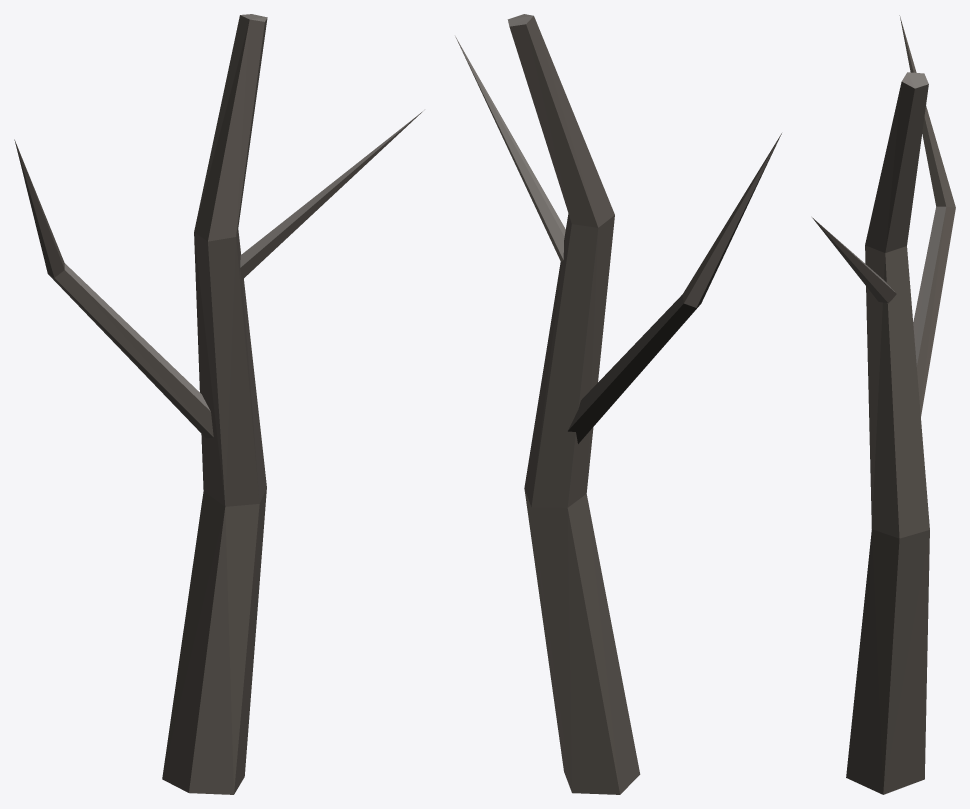
The model's file is SM_Tree_Dead_B.fbx.
3 renders of one model, left to right at view 1: azimuth 30°, elevation 25°; view 2: azimuth 150°, elevation 25°; view 3: azimuth 270°, elevation 25°, orthographic. The views are drawn at different scales.
Parts seen in each view (by area): view 1: SM_Tree_Dead_B; view 2: SM_Tree_Dead_B; view 3: SM_Tree_Dead_B.
Boxes of the visible parts, bbox=[...] form: SM_Tree_Dead_B: bbox=[14, 14, 422, 794]; SM_Tree_Dead_B: bbox=[455, 14, 781, 794]; SM_Tree_Dead_B: bbox=[812, 15, 955, 794].
Size of the model in its own units: 1.4 by 2.72 by 0.489.
